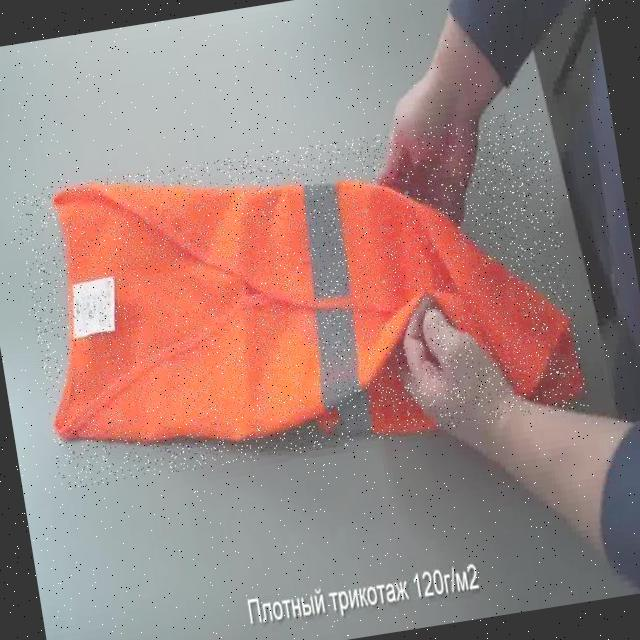vest: (14, 108, 589, 490)
